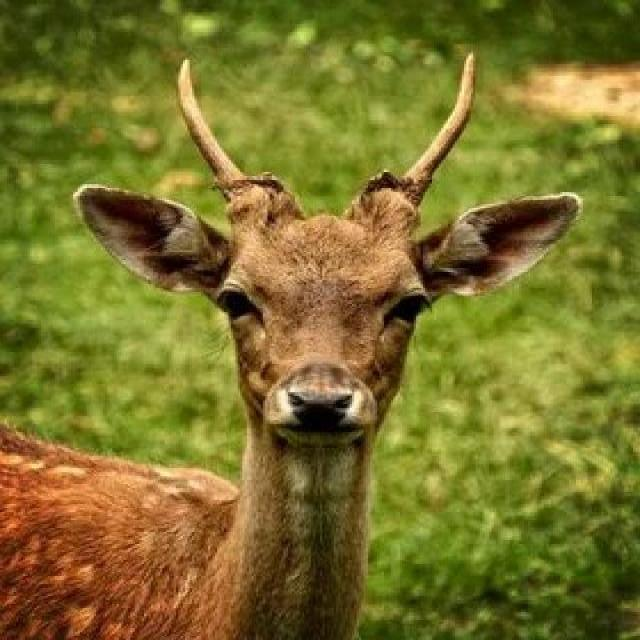deer: (79, 67, 547, 578)
